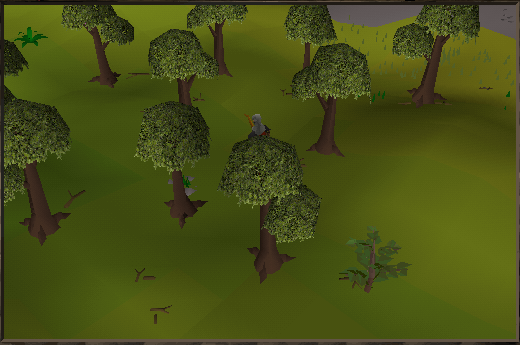Tree: (223, 138, 317, 283), (4, 100, 75, 241), (394, 0, 477, 110), (143, 104, 209, 225), (68, 0, 126, 88), (307, 56, 353, 156), (201, 2, 243, 73)
